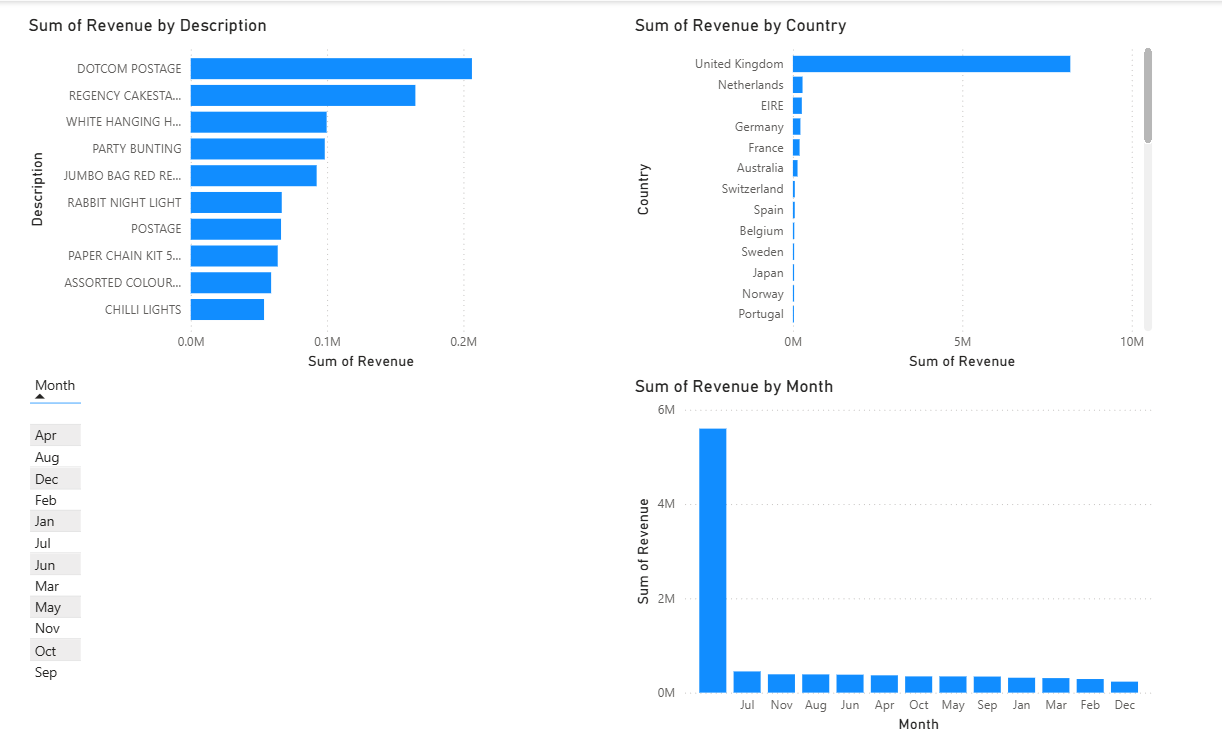

This screenshot's page, from the dashboard's own definition file:
{"tool":"powerbi","page":{"name":"Page 2","canvas":[1280,720],"ordinal":1},"visuals":[{"type":"clusteredBarChart","fields":{"Y":["Sum(data.Revenue)"],"Category":["data.Description"]},"box":[46.2,13.8,516.2,352.5],"z":0},{"type":"clusteredBarChart","fields":{"Y":["Sum(data.Revenue)"],"Category":["data.Country"]},"box":[640,13.8,516.2,352.5],"z":1000},{"type":"tableEx","fields":{"Values":["data.Month"]},"box":[46.2,360,516.2,353.8],"z":2000},{"type":"clusteredColumnChart","fields":{"Category":["data.Month"],"Y":["Sum(data.Revenue)"]},"box":[640,366.2,516.2,353.8],"z":3000}]}

Visuals, with their boxes on the page's 1280x720 design canvas (x1, y1, x2, y2). These are canvas units, not pixel positions in the 1222x736 screenshot, which may show the page scaled, cropped or inside an application window:
clusteredBarChart - Sum(data.Revenue) x data.Description: (46, 14, 562, 366)
clusteredBarChart - Sum(data.Revenue) x data.Country: (640, 14, 1156, 366)
tableEx - data.Month: (46, 360, 562, 714)
clusteredColumnChart - data.Month x Sum(data.Revenue): (640, 366, 1156, 720)
